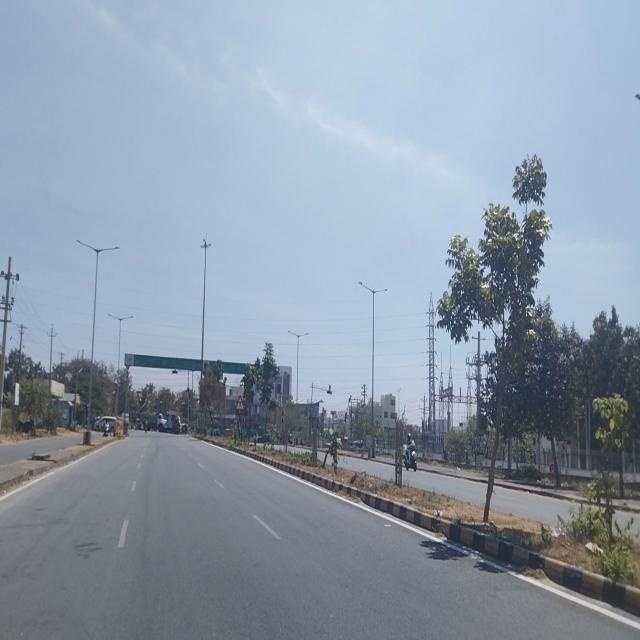bien_nguy_hiem: (235, 394, 245, 410)
